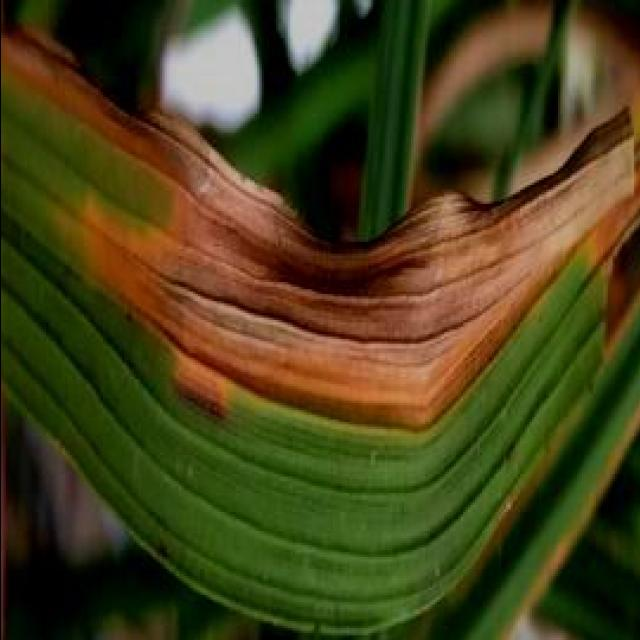Bacterial_Leaf_Blight: (0, 195, 604, 567)
